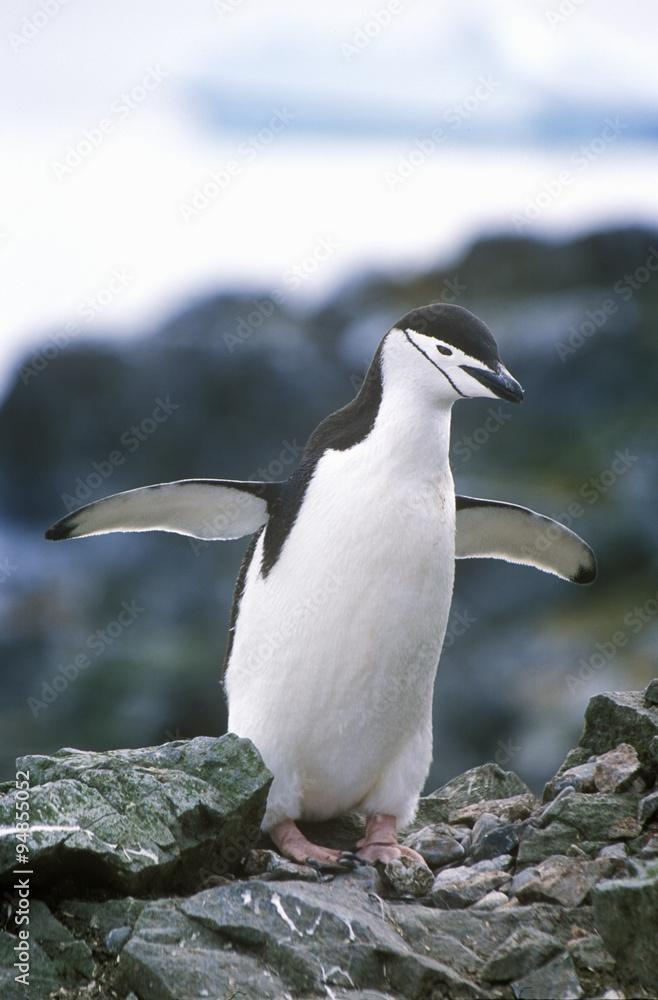Penguin: (47, 303, 595, 863)
